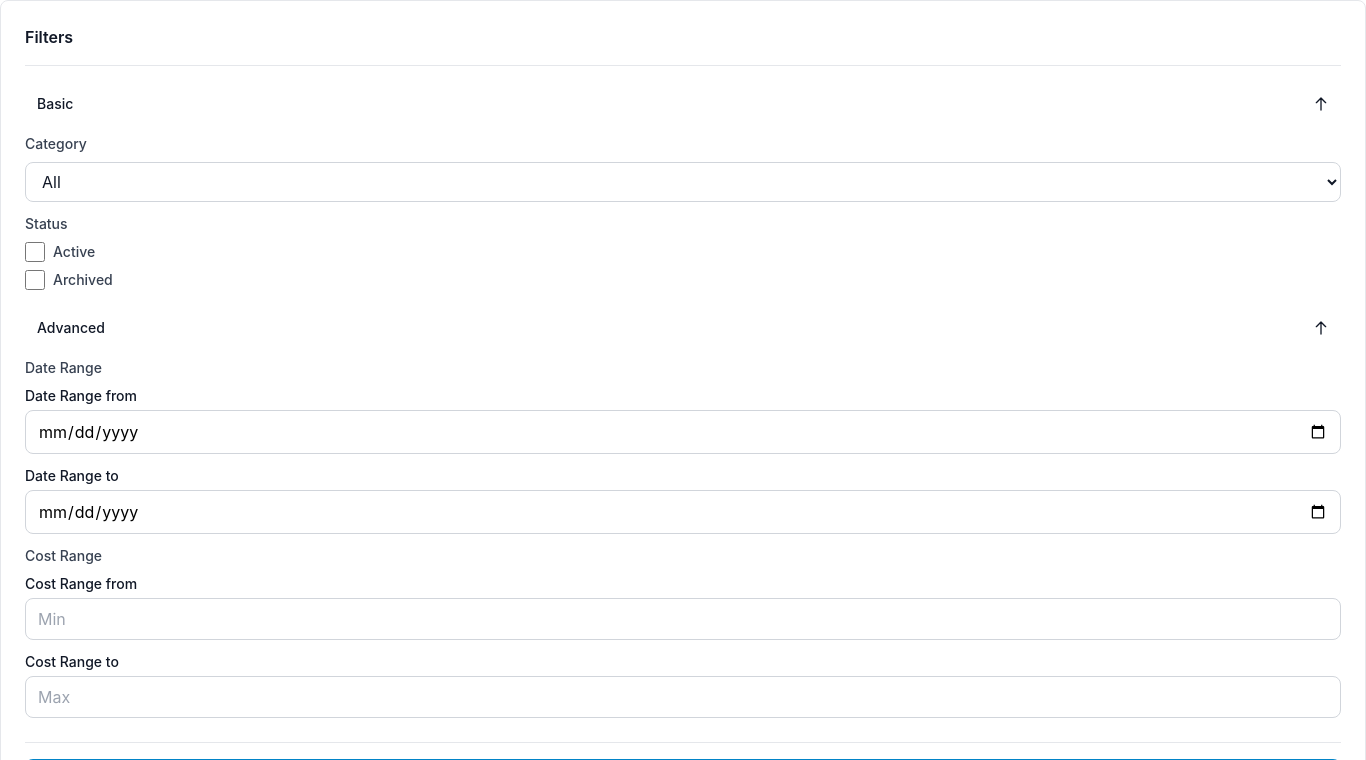
Scenario: FilterPanel - Unit Tests › Collapsible Sections › should toggle section expanded state
Expected: the text "Category" is shown, [25, 135, 87, 152]
Click the button "Basic" at (55, 104), box [25, 82, 1341, 126]
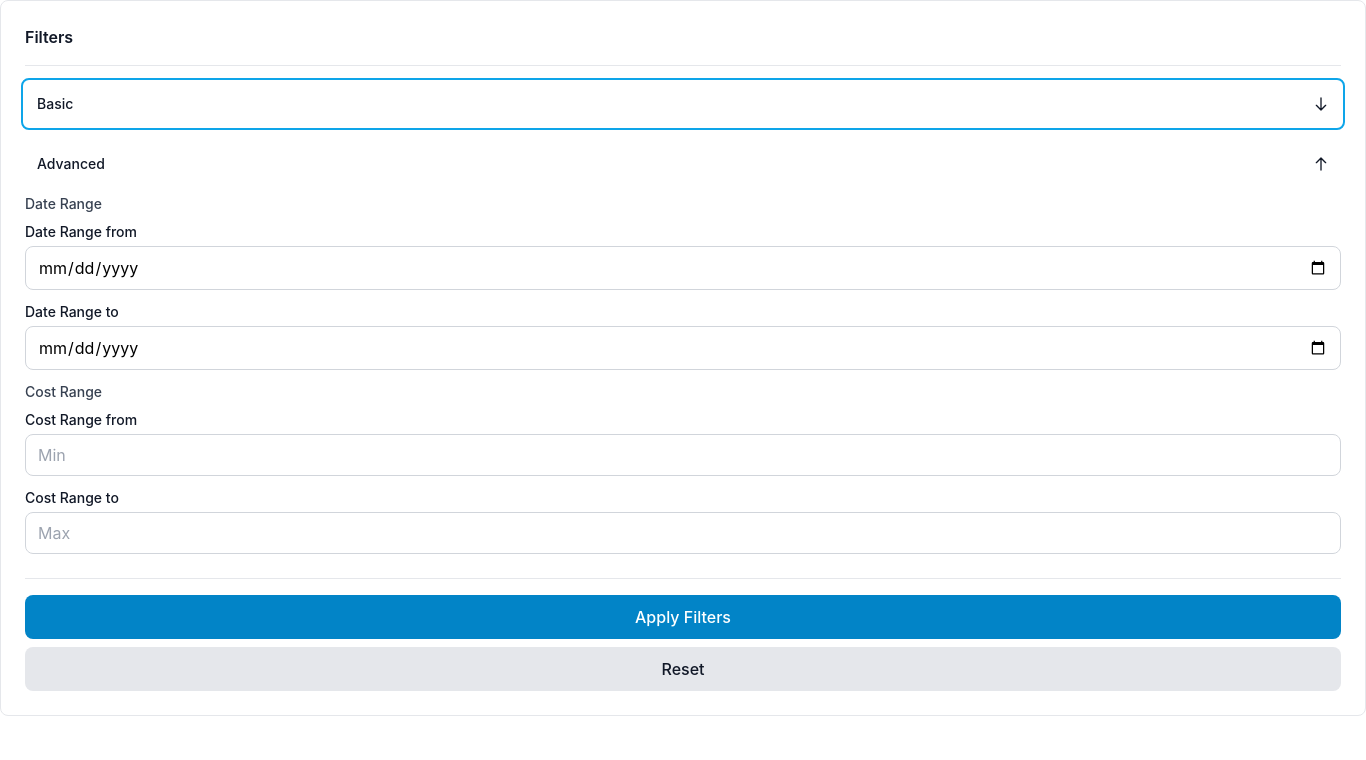
Result: the button "Basic" is collapsed at [25, 82, 1341, 126]
